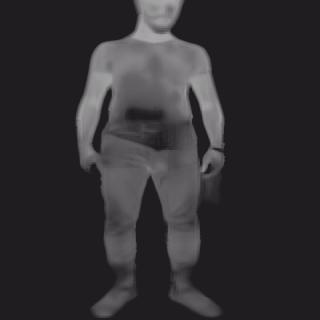Gun: (124, 106, 166, 152)
